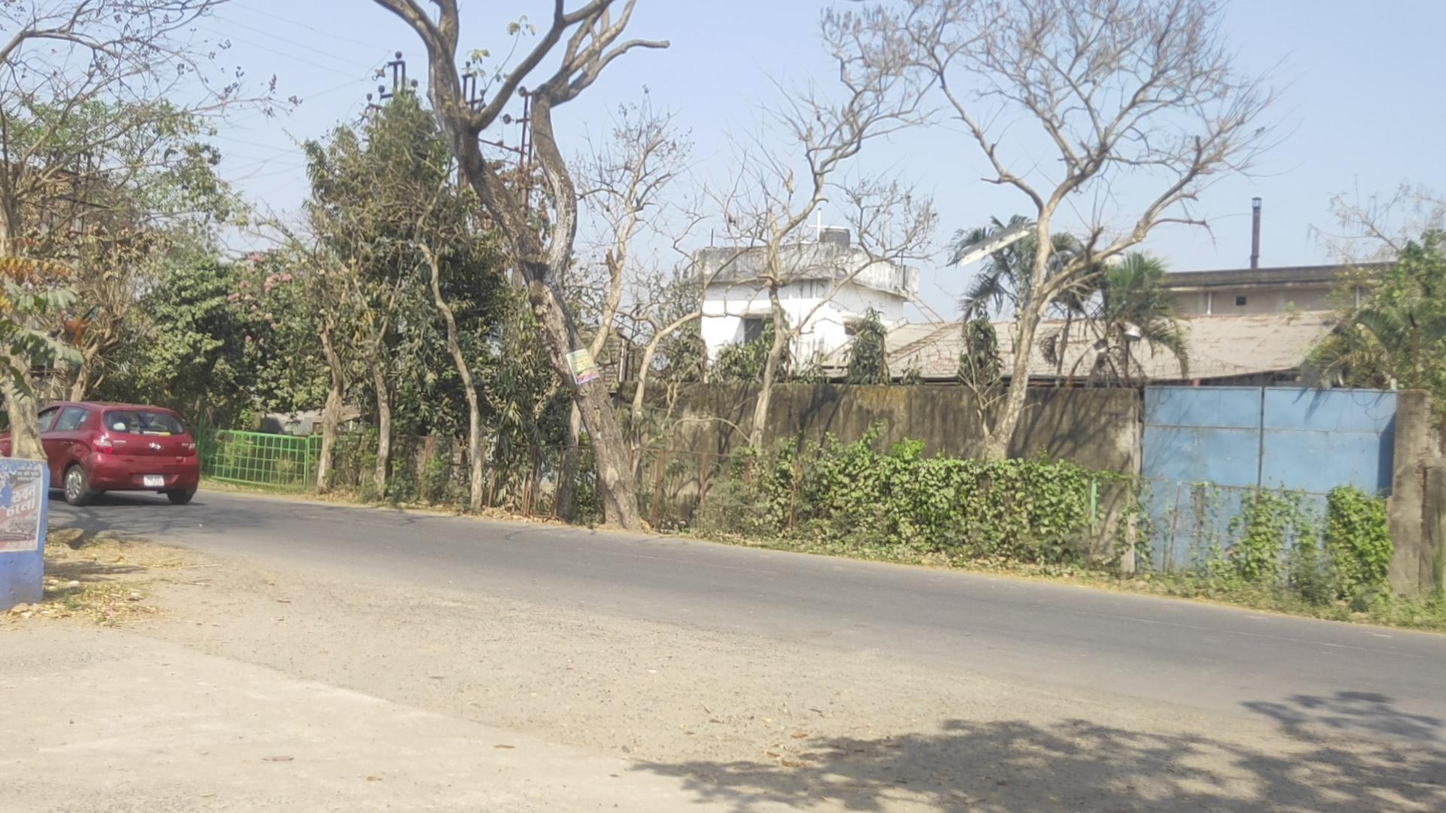car: (1, 400, 200, 507)
